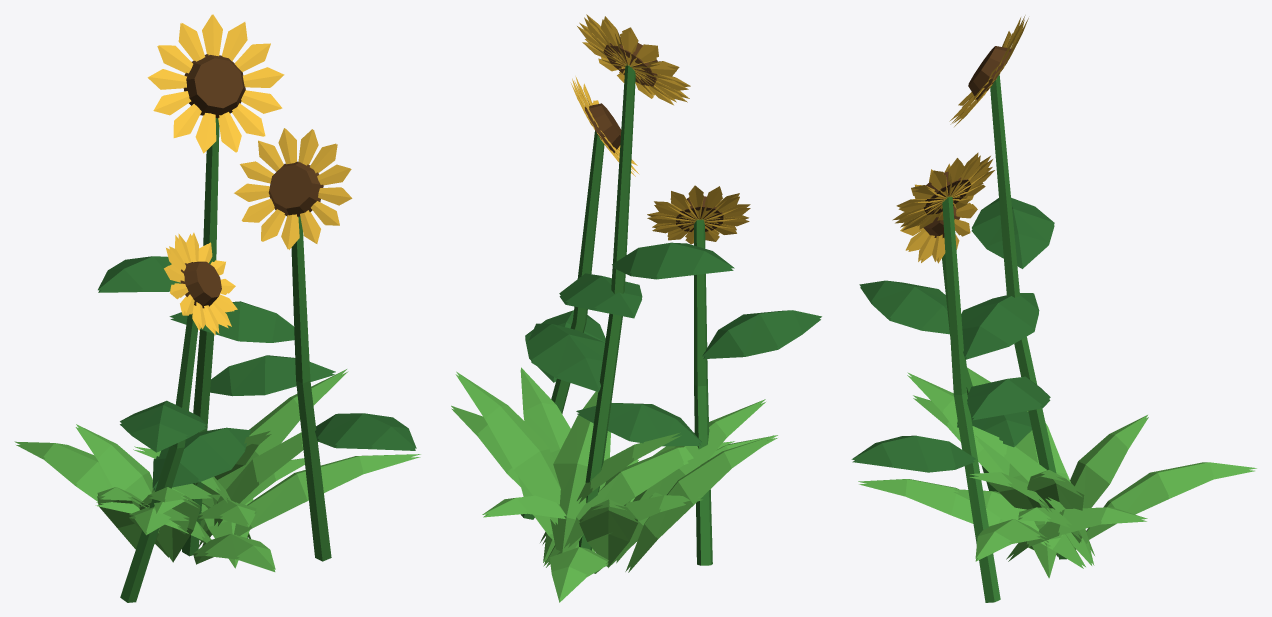
The model's file is Prop_FlowersYellow.fbx.
The picture shows the model from 3 angles, left to right: view 1: azimuth 30°, elevation 25°; view 2: azimuth 150°, elevation 25°; view 3: azimuth 270°, elevation 25°; orthographic projection. The views are drawn at different scales.
Parts seen in each view (by area): view 1: Prop_FlowersYellow; view 2: Prop_FlowersYellow; view 3: Prop_FlowersYellow.
Part boxes in pixels (x1,y1,x2,y2): Prop_FlowersYellow: (14,14,420,602); Prop_FlowersYellow: (451,14,821,602); Prop_FlowersYellow: (851,15,1256,602).
Size of the model in its own units: 0.3471 by 0.5607 by 0.387.
